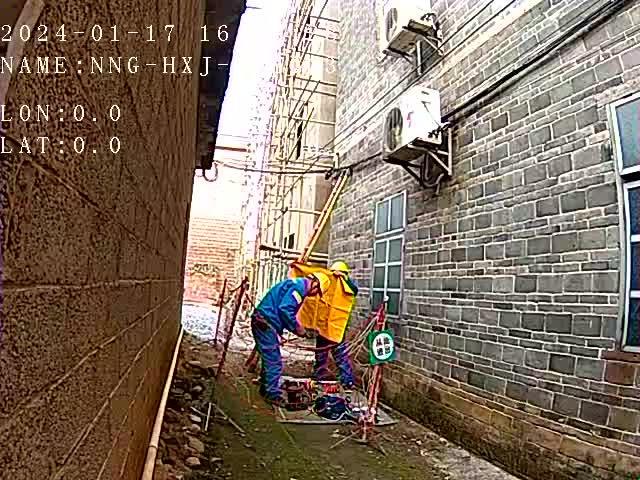downsuit: (253, 321, 287, 395), (315, 333, 354, 388)
halt: (302, 269, 329, 298), (328, 257, 350, 283)
hand: (332, 269, 348, 280)
inear: (310, 277, 319, 292)
intosign: (367, 329, 398, 366)
person: (246, 263, 329, 407), (311, 258, 357, 390)
upsuit: (255, 280, 306, 322)
